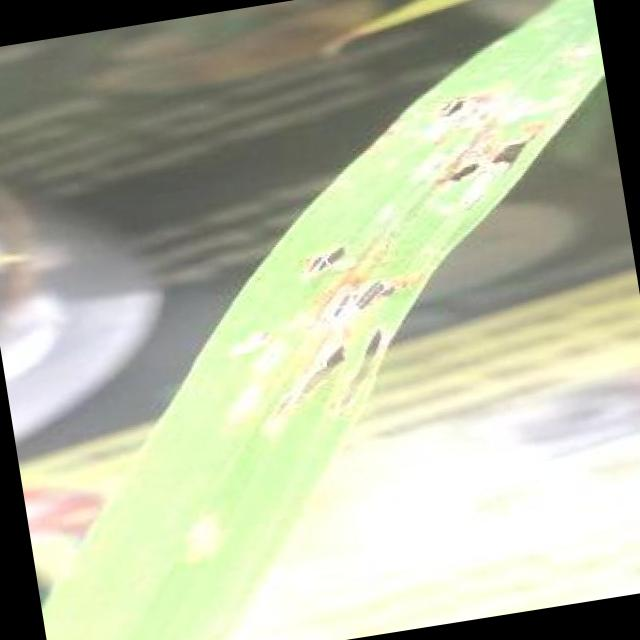Rice_Blast: (320, 320, 430, 420), (284, 215, 366, 296), (478, 120, 554, 202), (168, 510, 246, 582), (222, 310, 294, 372), (422, 136, 491, 194), (432, 76, 500, 130)
